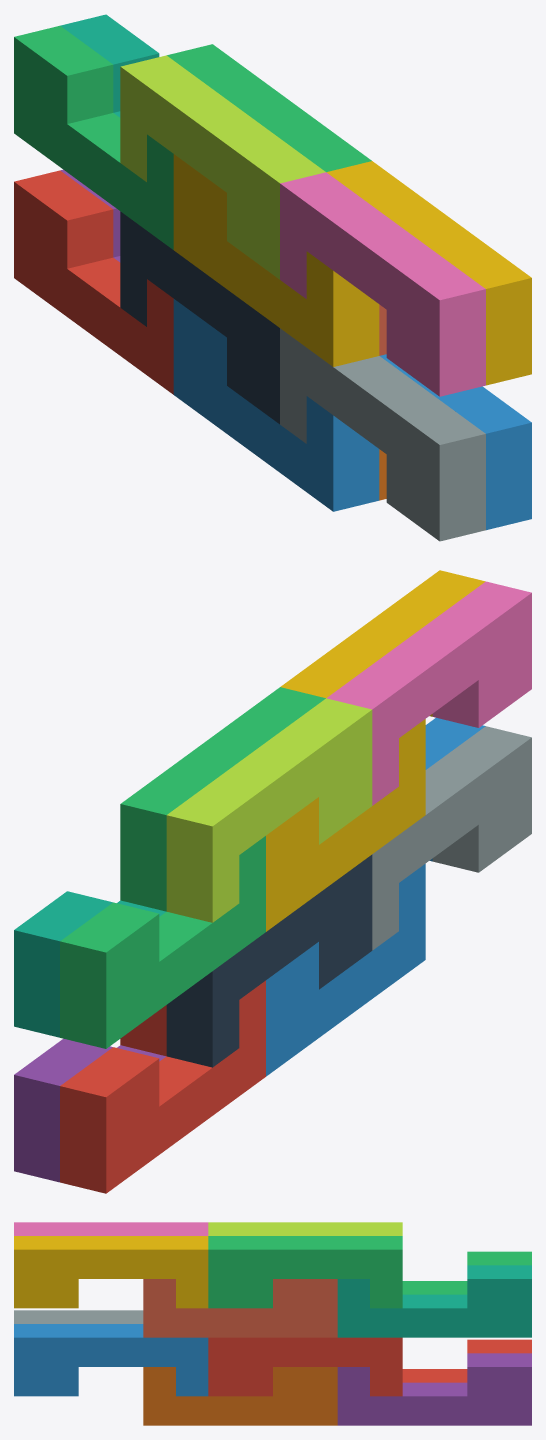
Rendered from tiling.obj.
The picture shows the model from 3 angles, top to bottom: view 1: azimuth 30°, elevation 25°; view 2: azimuth 150°, elevation 25°; view 3: azimuth 270°, elevation 25°; orthographic projection. The views are drawn at different scales.
Visible parts, largest first — view 1: copy_2_domain_4, copy_2_domain_2, copy_2_domain_3, copy_1_domain_1, copy_1_domain_3, copy_1_domain_4, copy_1_domain_2, copy_2_domain_8, copy_2_domain_1, copy_2_domain_7, copy_2_domain_6, copy_1_domain_7 (+1 smaller); view 2: copy_2_domain_3, copy_2_domain_4, copy_1_domain_1, copy_1_domain_3, copy_2_domain_2, copy_2_domain_1, copy_2_domain_7, copy_1_domain_4, copy_1_domain_2, copy_2_domain_8, copy_1_domain_7, copy_1_domain_5 (+2 smaller); view 3: copy_2_domain_7, copy_2_domain_8, copy_1_domain_5, copy_1_domain_7, copy_2_domain_6, copy_2_domain_5, copy_1_domain_6, copy_1_domain_8, copy_2_domain_3, copy_2_domain_4, copy_1_domain_1, copy_1_domain_3 (+1 smaller).
Boxes of the visible parts, x1,y1,x2,y2 form: copy_2_domain_4: (280, 172, 485, 396); copy_2_domain_2: (280, 328, 485, 541); copy_2_domain_3: (120, 55, 325, 279); copy_1_domain_1: (14, 170, 173, 394); copy_1_domain_3: (14, 25, 173, 249); copy_1_domain_4: (173, 154, 379, 366); copy_1_domain_2: (173, 299, 379, 511); copy_2_domain_8: (326, 161, 531, 385); copy_2_domain_1: (120, 211, 279, 424); copy_2_domain_7: (167, 44, 371, 172); copy_2_domain_6: (380, 354, 531, 530); copy_1_domain_7: (60, 14, 159, 117); copy_2_domain_3: (166, 698, 372, 922); copy_2_domain_4: (326, 581, 531, 805); copy_1_domain_1: (60, 980, 265, 1193); copy_1_domain_3: (60, 836, 265, 1048); copy_2_domain_2: (372, 726, 531, 950); copy_2_domain_1: (166, 854, 372, 1067); copy_2_domain_7: (120, 687, 325, 911); copy_1_domain_4: (266, 719, 425, 931); copy_1_domain_2: (266, 864, 425, 1076); copy_2_domain_8: (280, 570, 485, 716); copy_1_domain_7: (14, 891, 165, 1037); copy_1_domain_5: (14, 1038, 165, 1182); copy_2_domain_7: (208, 1236, 402, 1308); copy_2_domain_8: (14, 1236, 208, 1308); copy_1_domain_5: (337, 1353, 531, 1425); copy_1_domain_7: (337, 1265, 531, 1337); copy_2_domain_6: (14, 1324, 208, 1396); copy_2_domain_5: (208, 1337, 402, 1396); copy_1_domain_6: (143, 1367, 337, 1425); copy_1_domain_8: (143, 1279, 337, 1337); copy_2_domain_3: (208, 1222, 402, 1235); copy_2_domain_4: (14, 1222, 208, 1235); copy_1_domain_1: (402, 1339, 531, 1382); copy_1_domain_3: (402, 1251, 531, 1294).
Bounding box in the file's own units: 2 × 6 × 16.
